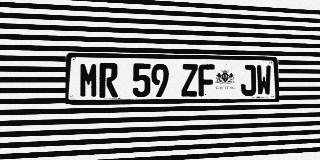5: (133, 63, 151, 97)
9: (151, 64, 169, 97)
F: (198, 64, 215, 96)
J: (240, 65, 256, 96)
M: (79, 63, 98, 98)
R: (99, 63, 118, 98)
W: (256, 65, 271, 96)
Z: (181, 64, 198, 97)
